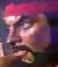ryu: (0, 0, 52, 66)
